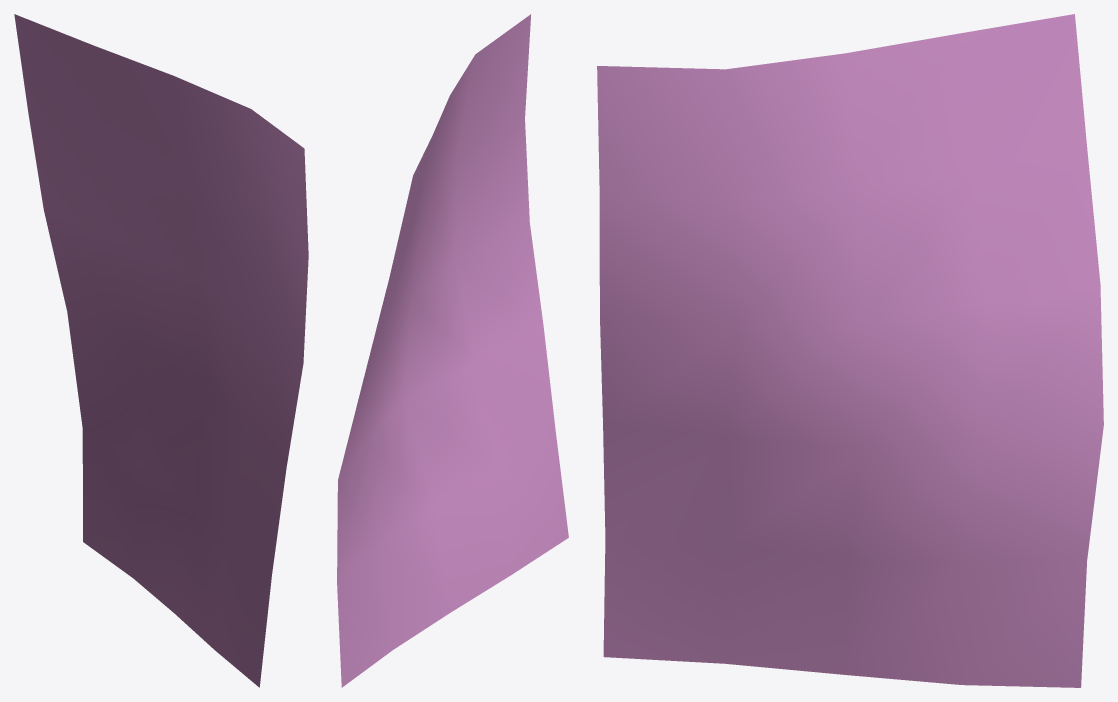
Rendered from zettel_004.fbx.
The picture shows the model from 3 angles, left to right: view 1: azimuth 30°, elevation 25°; view 2: azimuth 150°, elevation 25°; view 3: azimuth 270°, elevation 25°; orthographic projection. The views are drawn at different scales.
Parts seen in each view (by area): view 1: zettel_004; view 2: zettel_004; view 3: zettel_004.
Part boxes in pixels (<box>): zettel_004: <box>14,14,308,687</box>; zettel_004: <box>337,14,568,687</box>; zettel_004: <box>597,14,1103,687</box>.
Size of the model in its own units: 3.87 by 19.73 by 14.31.
